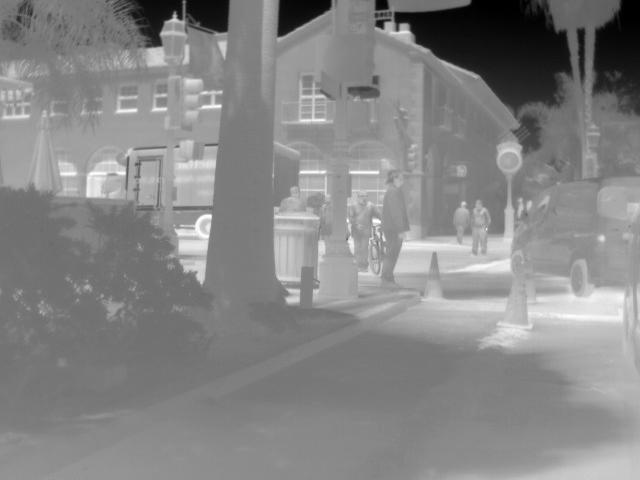car: (509, 173, 640, 299)
person: (381, 169, 412, 284), (349, 191, 380, 272), (466, 198, 492, 257), (452, 198, 474, 244), (317, 192, 333, 253), (279, 185, 307, 213)
